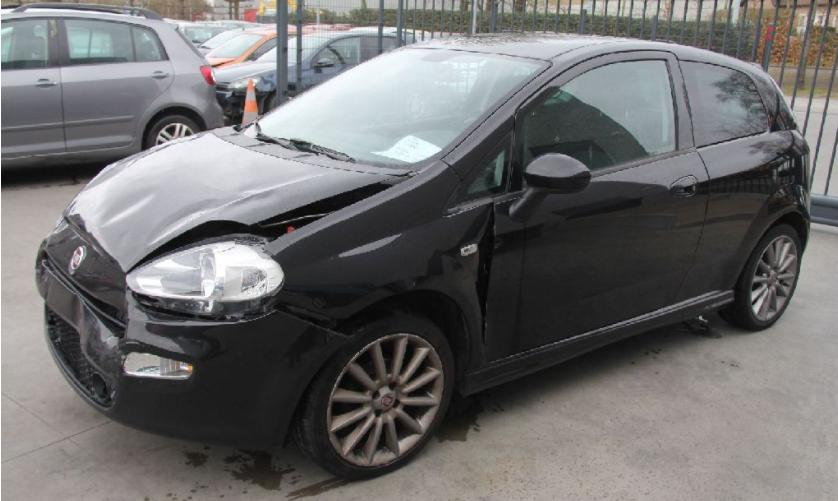Back-wheel: (718, 224, 801, 331)
Back-window: (678, 61, 768, 146)
Fender: (262, 161, 492, 371)
Front-bumper: (36, 218, 350, 453)
Front-door: (484, 50, 710, 364)
Front-wheel: (292, 314, 456, 479)
Front-window: (522, 60, 677, 187), (448, 127, 515, 208)
Headlight: (125, 239, 284, 317)
Hood: (62, 124, 414, 272)
Mirror: (509, 154, 591, 223)
Quarter-panel: (671, 130, 810, 305)
Rocker-panel: (459, 288, 734, 398)
Roof: (402, 32, 763, 70)
Windshield: (246, 48, 552, 168)
